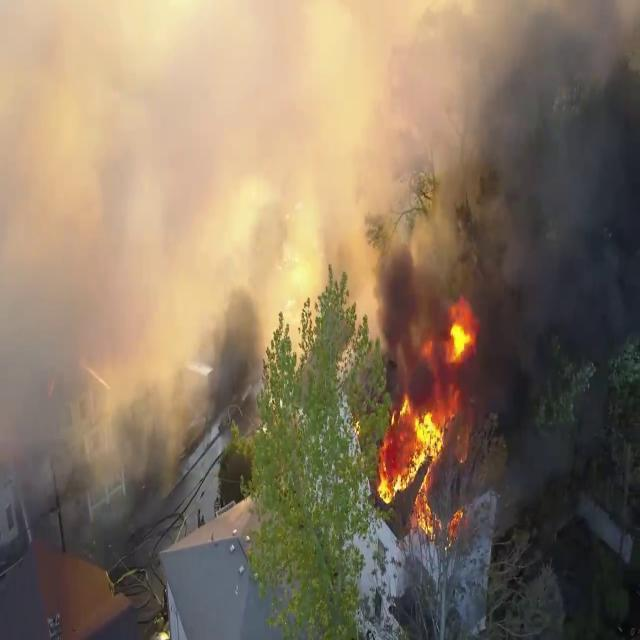Fire: (376, 310, 478, 530), (445, 304, 477, 366)
Smoke: (0, 0, 323, 534), (358, 0, 640, 412)
